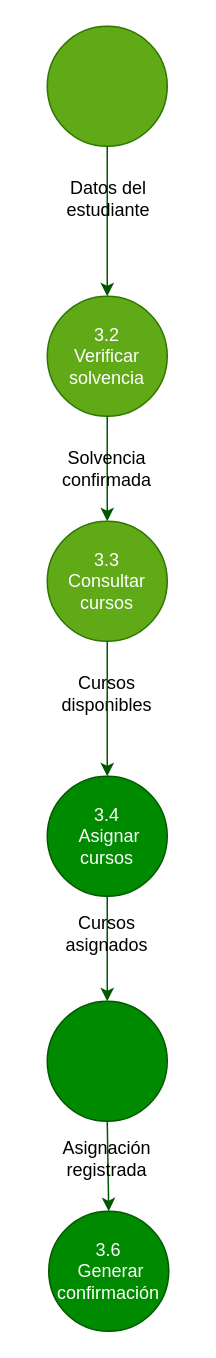
Image size: 216x1358. Some labels were removed from this diagram. The shapes that lost their labels are listed below. From the top down, each one's centre as x and y in pixels, then its label:
the point at 106,85: 3.1 Recibir datos
the point at 106,1060: 3.5 Registrar asignación
